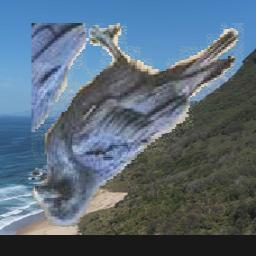Crow: (33, 23, 245, 227)
